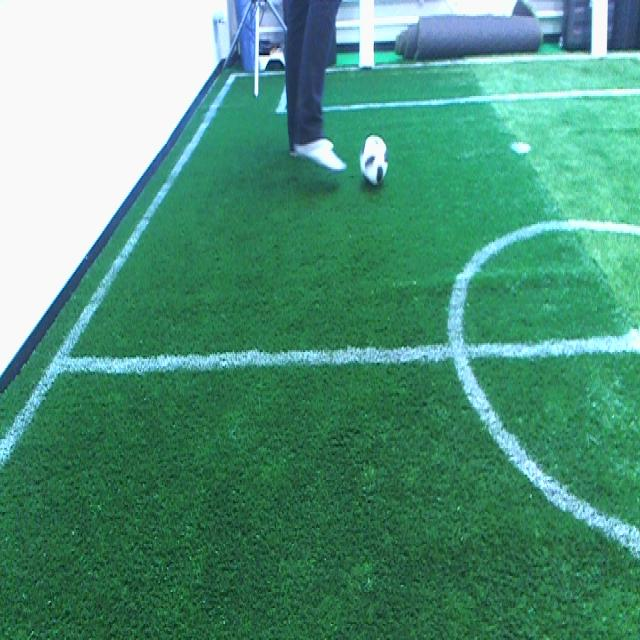ball: (361, 135, 389, 187)
goalpost: (589, 0, 607, 59), (359, 0, 375, 66)
